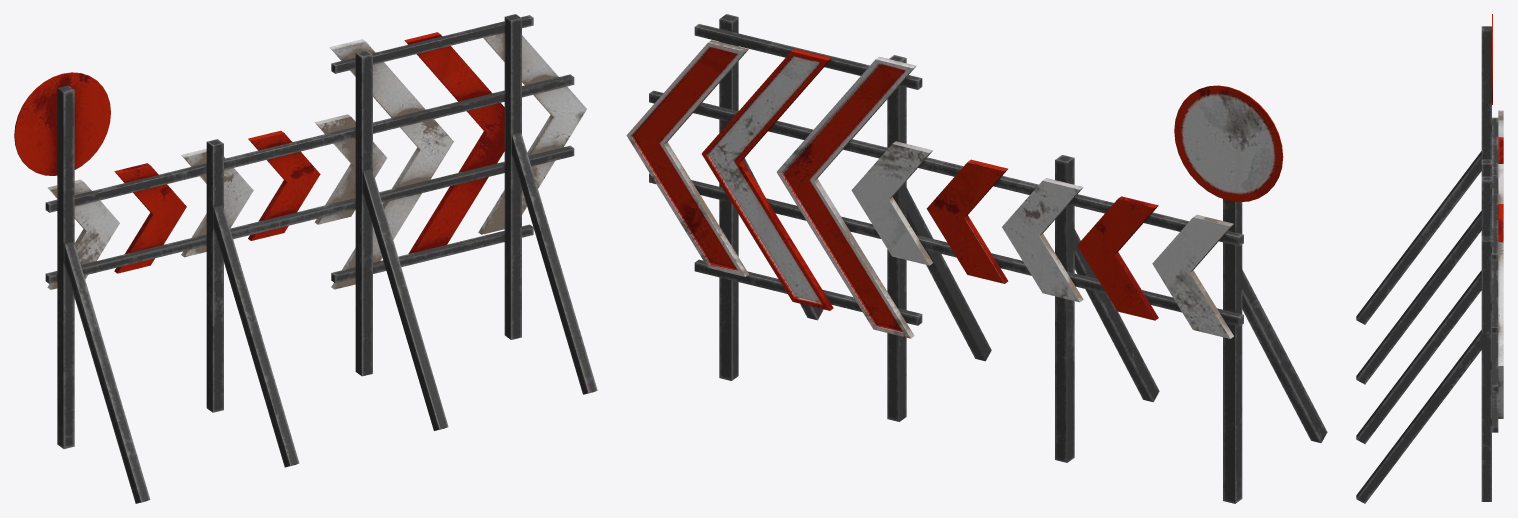
File: Arrow Sign.fbx
3 renders of one model, left to right at view 1: azimuth 30°, elevation 25°; view 2: azimuth 150°, elevation 25°; view 3: azimuth 270°, elevation 25°, orthographic. The views are drawn at different scales.
Visible parts, largest first — view 1: Arrow Sign; view 2: Arrow Sign; view 3: Arrow Sign.
Boxes of the visible parts, bbox=[...] form: Arrow Sign: bbox=[14, 14, 597, 503]; Arrow Sign: bbox=[626, 14, 1327, 503]; Arrow Sign: bbox=[1356, 14, 1503, 503].
Bounding box in the file's own units: 2.72 × 1.68 × 0.7362.
Materials: 1 (1 with a texture image).
